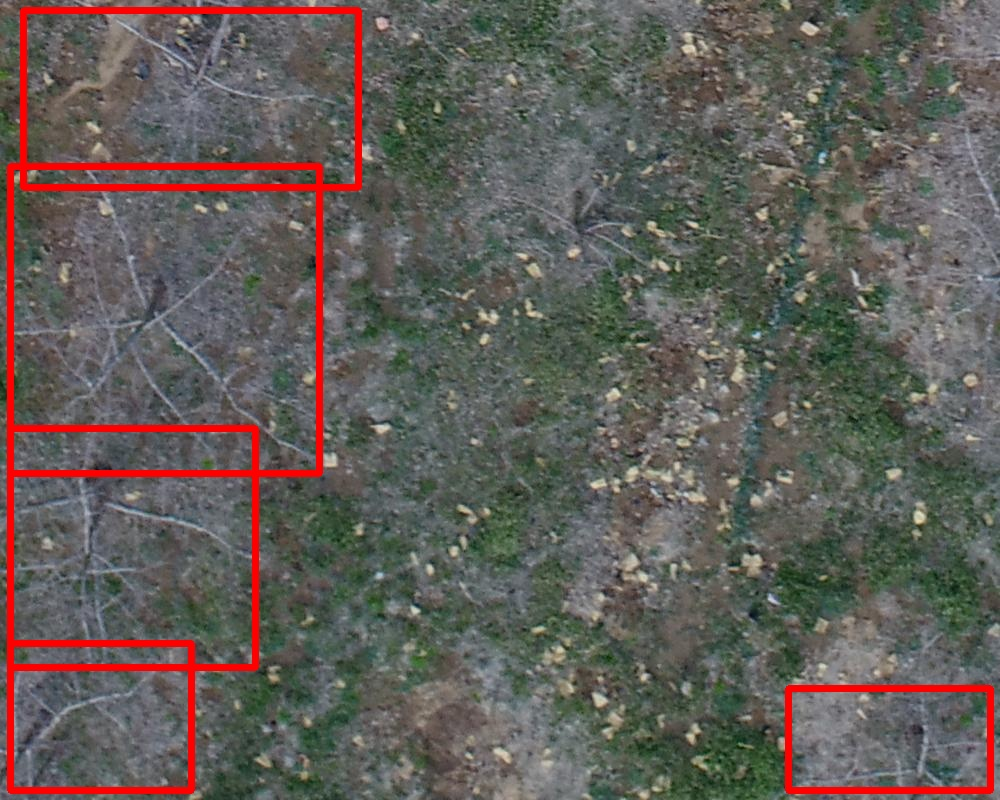apple: (10, 166, 319, 473), (23, 10, 358, 187), (10, 428, 255, 667), (10, 643, 191, 790), (788, 688, 990, 790)
